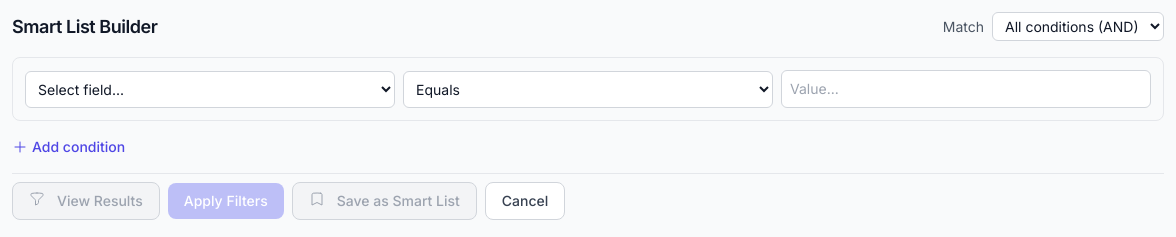
Test: SmartListBuilder › requires a non-empty value before applying or saving value-based conditions
Select "Email" in the dropdown named "Field" at (210, 89), box [25,70,395,108]
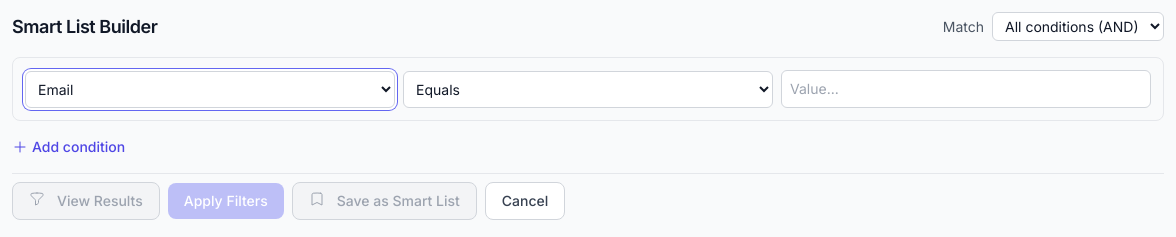
Expected: the button "Apply Filters" is disabled, [168,183,284,219]
Expected: the button "Save as Smart List" is disabled, [292,182,477,220]
Select "Is Empty" in the dropdown named "Operator" at (588, 89), box [403,70,773,108]
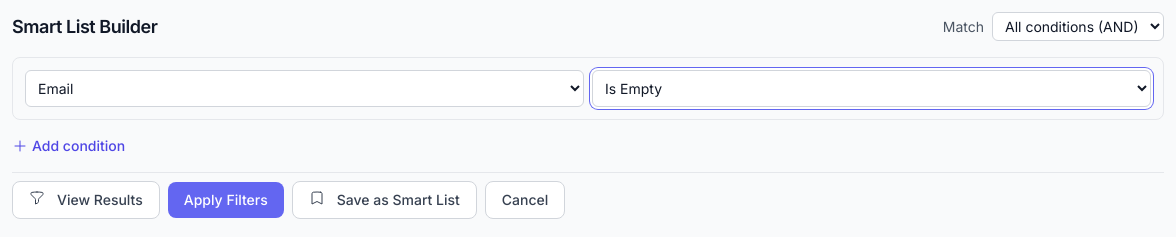
Expected: the button "Apply Filters" is enabled, [168,182,284,218]
Expected: the button "Save as Smart List" is enabled, [292,181,477,219]
